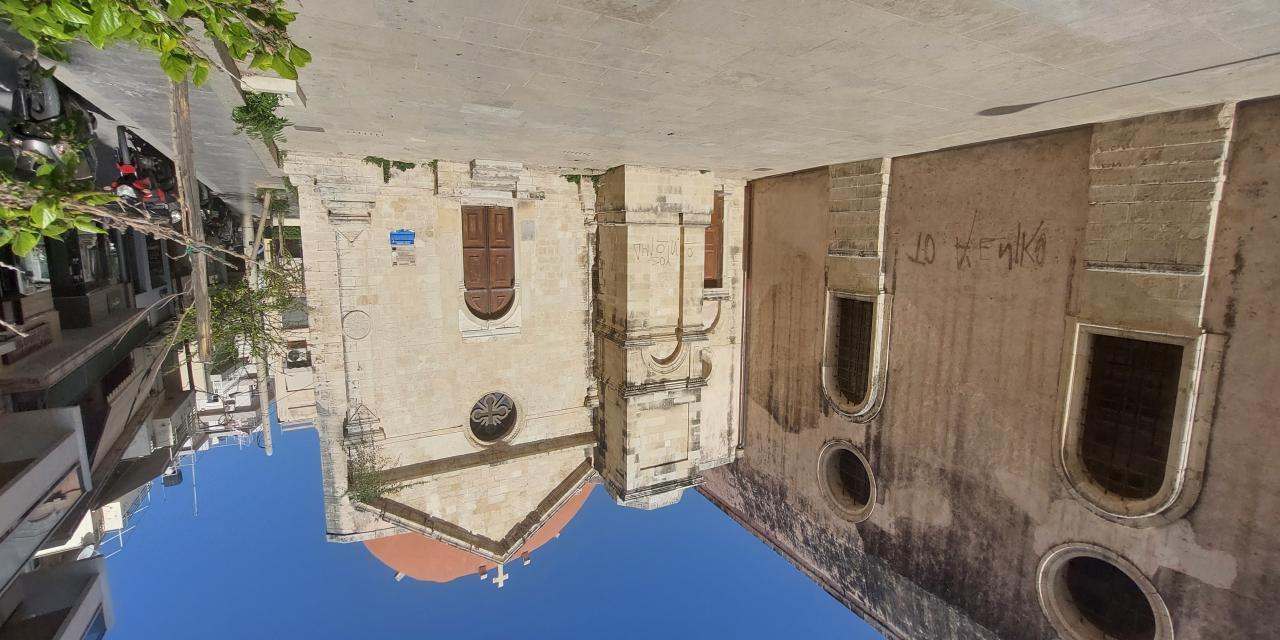Agia Aikaterini: (299, 92, 1280, 640)
